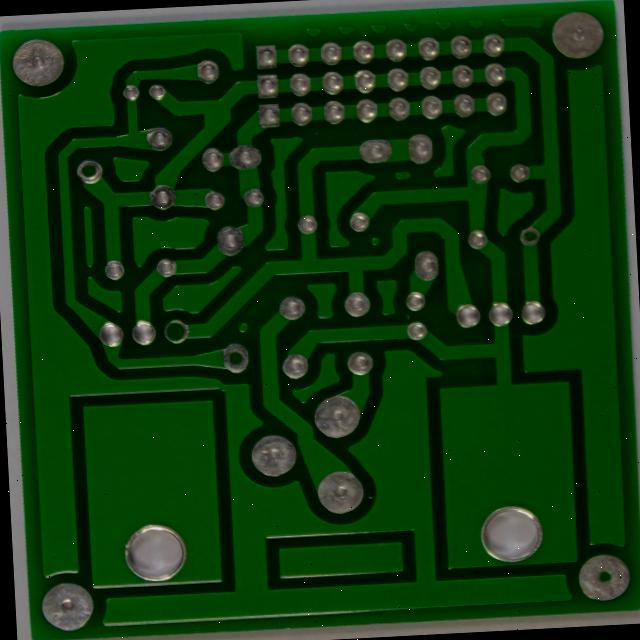missing_hole: (227, 330, 260, 369), (604, 558, 639, 593), (75, 143, 106, 173), (166, 308, 196, 336), (534, 211, 561, 238)
